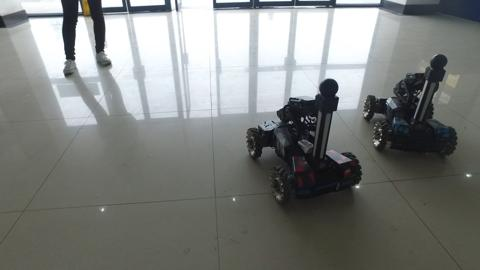chariot: (240, 76, 365, 205), (360, 48, 461, 162)
